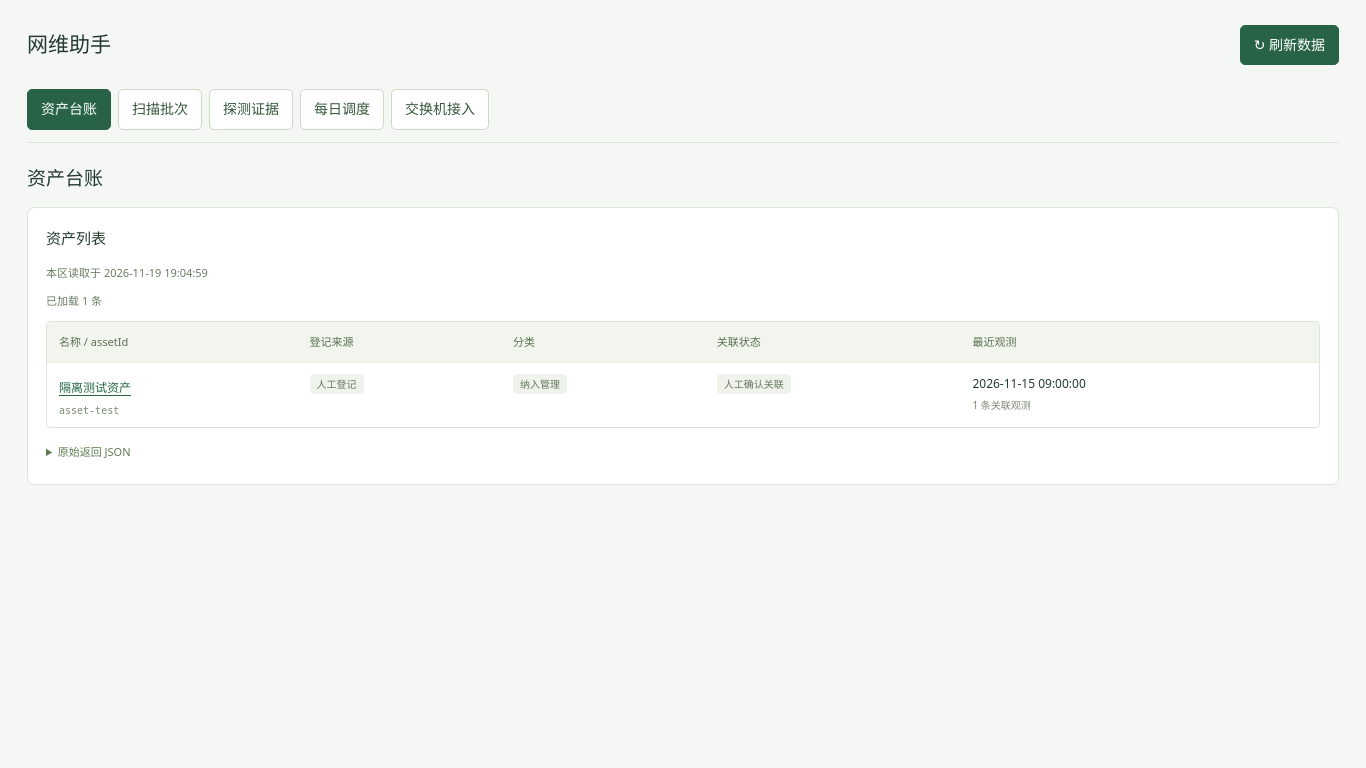
it: 最小工作台真实读取语义（隔离响应） › 刷新失败保留并明确标记旧资料，不把失败当最新成功
Expected: the button with aria-label "查看 隔离测试资产" is shown, [59,374,131,401]
Click the button "↻ 刷新数据": (1289,45) [1240,25,1339,65]
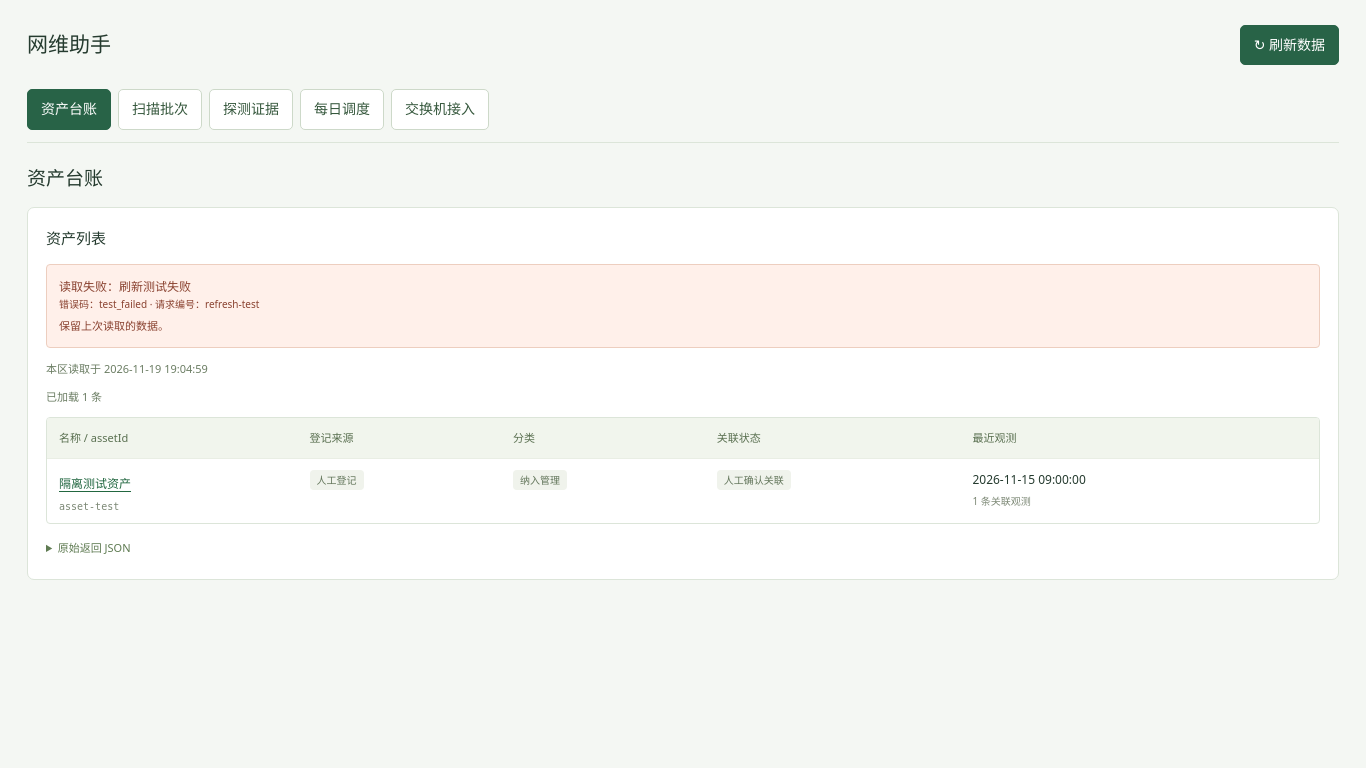
Expected: the button with aria-label "查看 隔离测试资产" is shown, [59,470,131,497]
Result: the text "读取失败：刷新测试失败" is shown at [59,278,191,295]
Result: the text "保留上次读取的数据。" is shown at [59,318,169,333]
